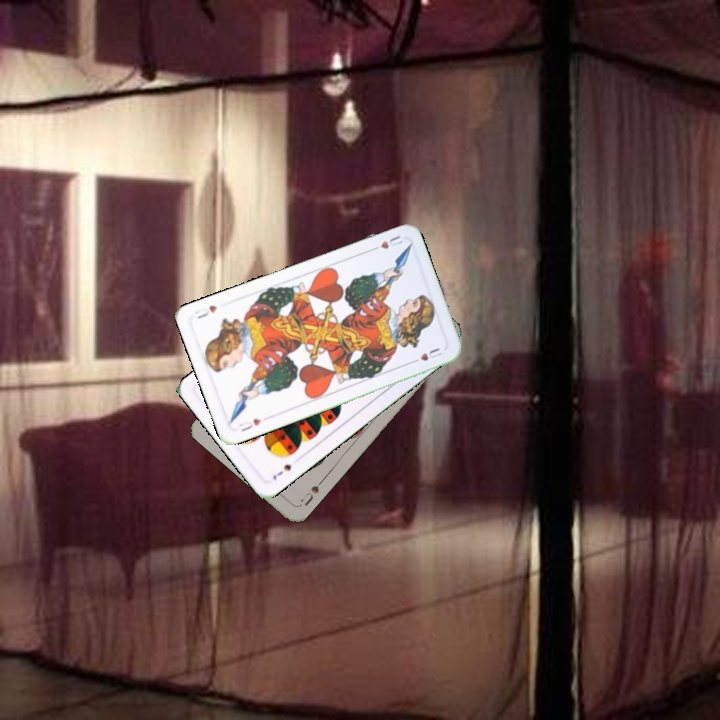HU: (366, 231, 405, 254), (235, 414, 264, 434)
S7: (269, 460, 294, 482)
SU: (296, 476, 326, 508)
